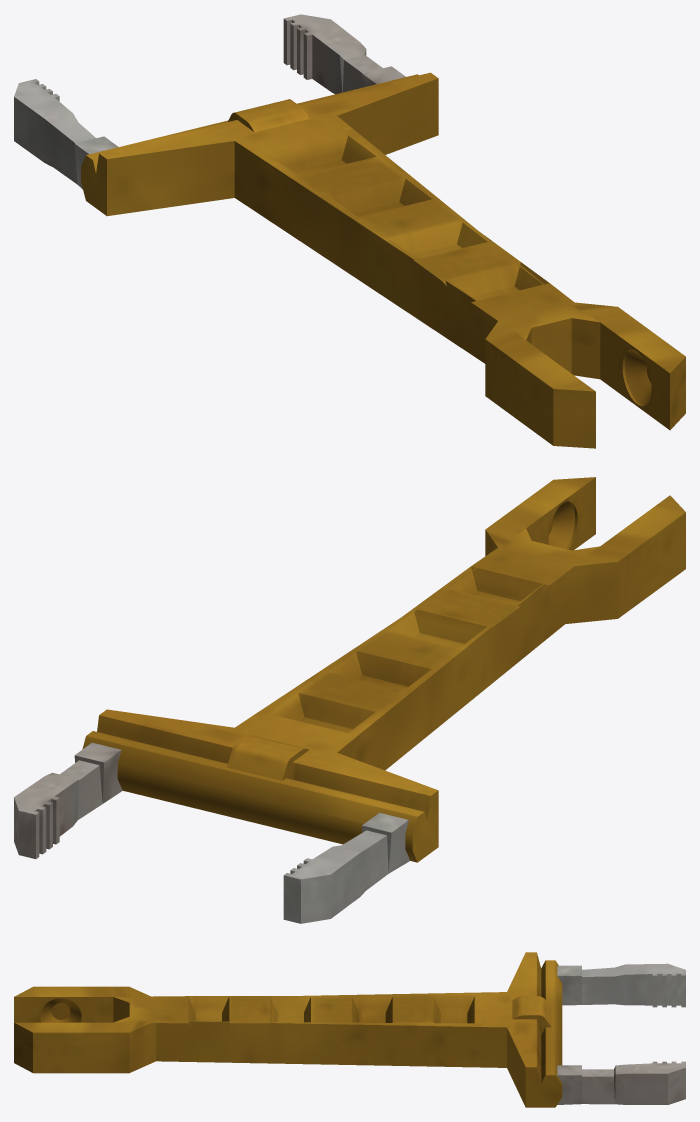
The model's file is inserter-arm-long-hand-open.glb.
3 views of the same model, one above another, from view 1: azimuth 30°, elevation 25°; view 2: azimuth 150°, elevation 25°; view 3: azimuth 270°, elevation 25° (orthographic). The views are drawn at different scales.
Parts seen in each view (by area): view 1: body; view 2: body; view 3: body.
Part boxes in pixels (bbox=[...]): body: bbox=[14, 14, 685, 448]; body: bbox=[14, 477, 685, 923]; body: bbox=[14, 952, 685, 1107].
Size of the model in its own units: 0.5492 by 0.099 by 1.36.
Materials: 2 (2 with a texture image).
